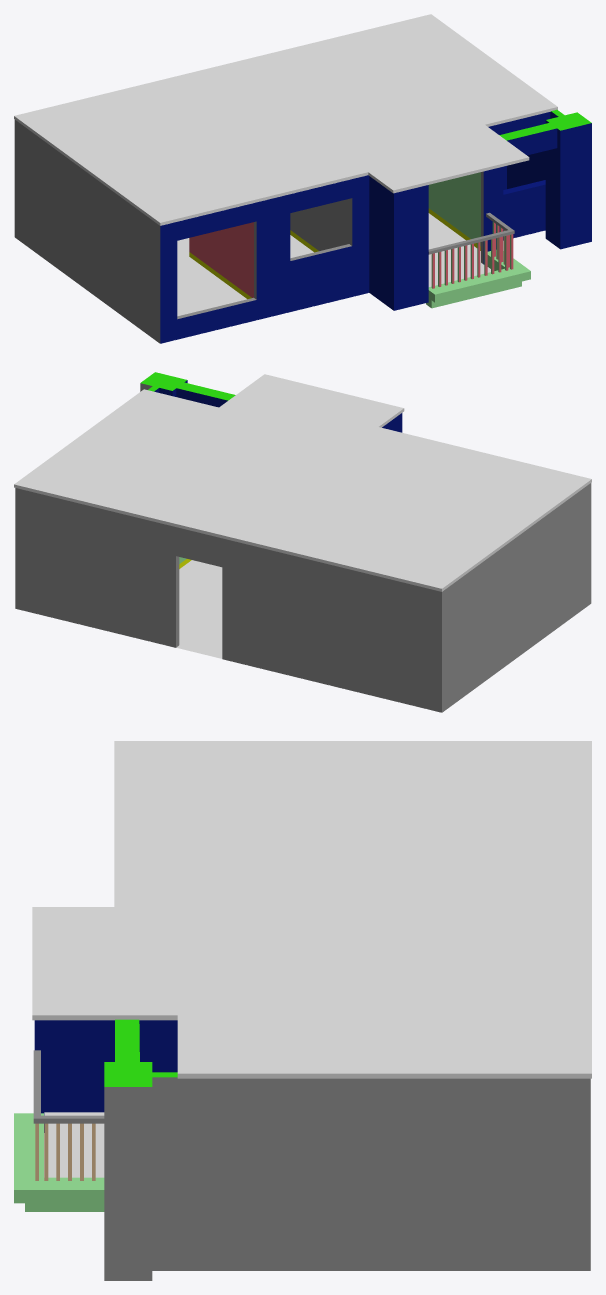
3 views of the same model, one above another, from view 1: azimuth 30°, elevation 25°; view 2: azimuth 150°, elevation 25°; view 3: azimuth 270°, elevation 25° (orthographic). The views are drawn at different scales.
Visible parts, largest first — view 1: 天花板, 牆, 陽台護欄, 地板-主臥, 地板_客廳; view 2: 牆, 天花板, 地板_公共, 地板_客廳; view 3: 天花板, 牆, 陽台護欄, 地板_陽台.
Boxes of the visible parts, x1,y1,x2,y2 form: 天花板: (14, 14, 557, 225); 牆: (14, 109, 591, 343); 陽台護欄: (426, 212, 530, 308); 地板-主臥: (177, 244, 246, 316); 地板_客廳: (428, 213, 483, 277); 牆: (15, 372, 591, 712); 天花板: (14, 374, 591, 591); 地板_公共: (176, 583, 222, 658); 地板_客廳: (179, 560, 222, 593); 天花板: (32, 741, 591, 1078); 牆: (34, 1019, 590, 1280); 陽台護欄: (14, 1050, 104, 1211); 地板_陽台: (44, 1112, 104, 1177).
Bounding box in the file's own units: 1030 × 736 × 287.
